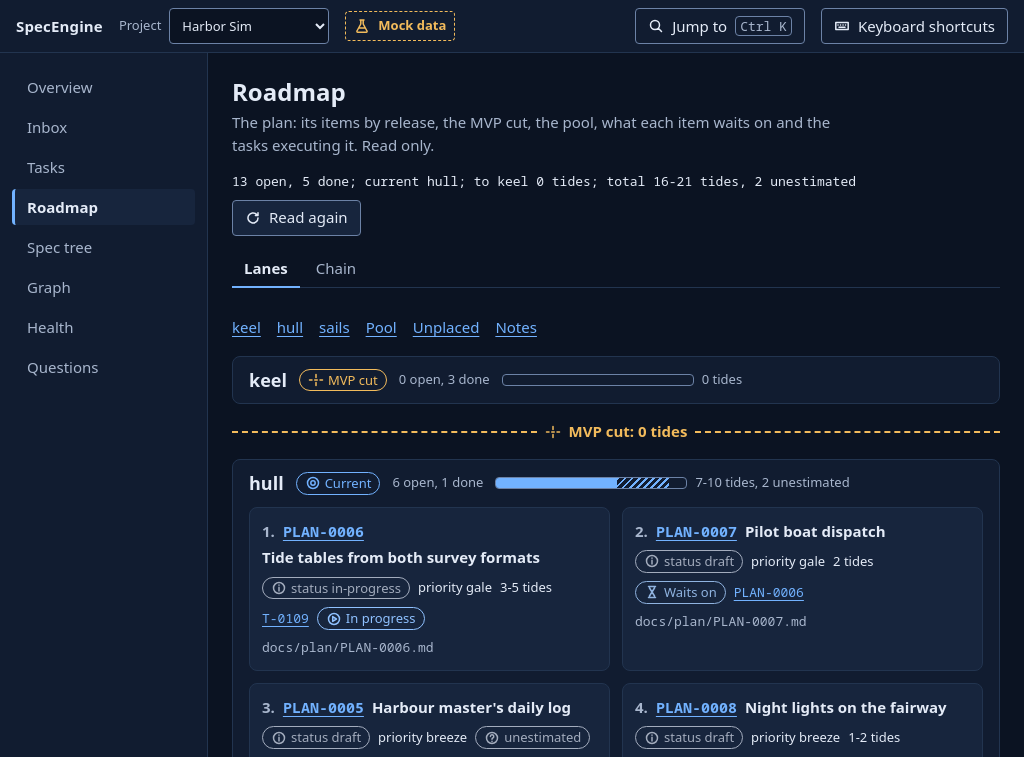
it: the Roadmap over the mock (UI-6) › normal: the Chain tab draws harbor-sim's waits, across lanes too, and no edge for the one-item cycle
expect the heading "Roadmap" is shown: met, box [232,75,346,108]
expect the tab "Lanes" is shown: met, box [232,252,300,288]
Step 1. Click the tab "Chain" → [336, 270], box [304,252,368,288]
(page scrolled)
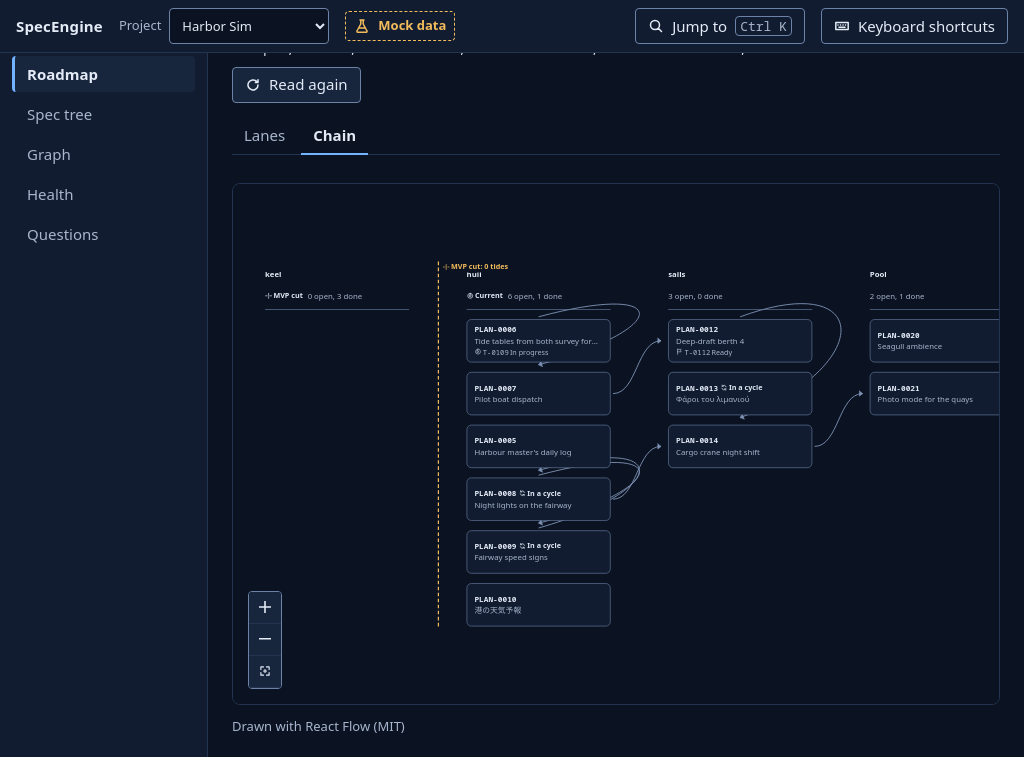
expect the element named "Roadmap canvas" is shown: met, box [233,184,999,704]
